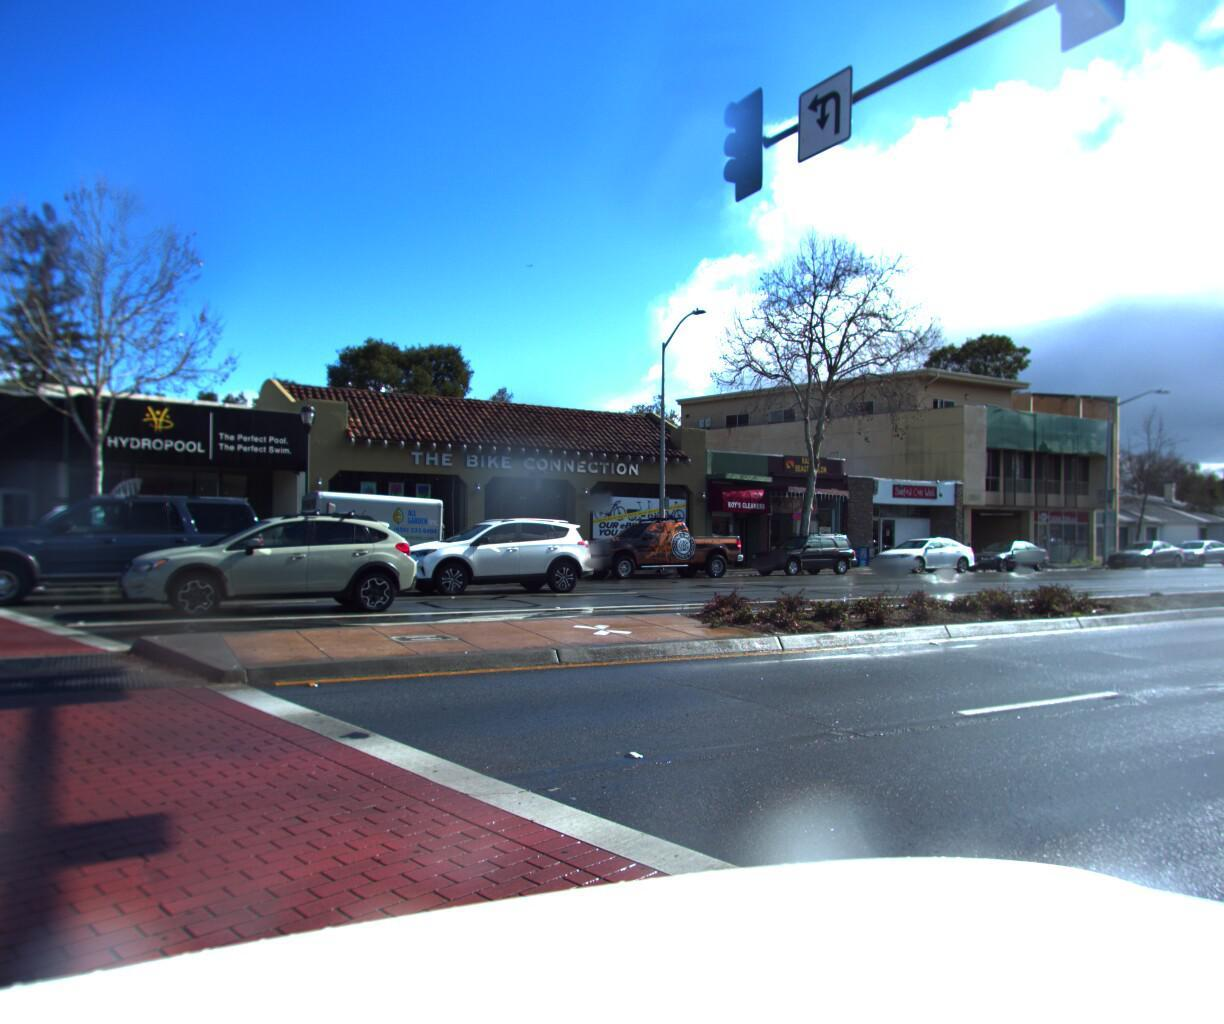car: (114, 498, 446, 621), (0, 487, 266, 614), (0, 485, 253, 604), (380, 513, 607, 596), (565, 510, 745, 583), (734, 527, 862, 575), (861, 532, 979, 575), (951, 535, 1053, 568), (1094, 535, 1185, 566), (1150, 534, 1224, 566)
other_vehicle: (239, 482, 467, 595)
